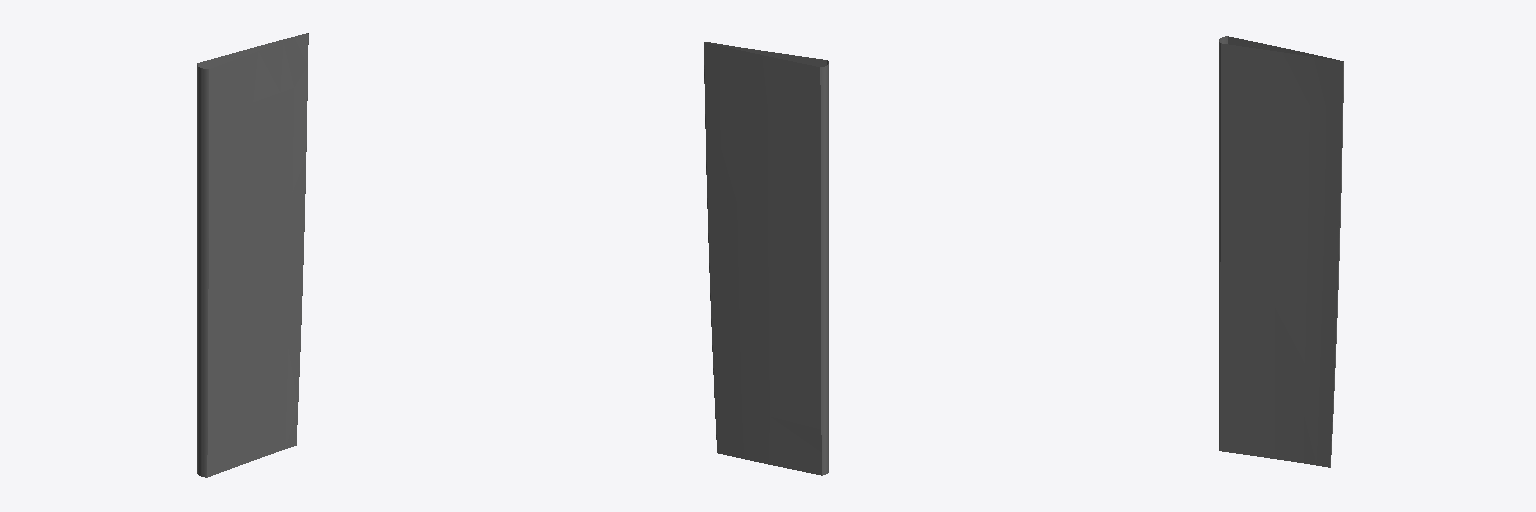
Rendered from Lflap.obj.
3 views of the same model, side by side, from view 1: azimuth 30°, elevation 25°; view 2: azimuth 150°, elevation 25°; view 3: azimuth 330°, elevation 25° (orthographic).
Visible parts, largest first — view 1: mesh0, mesh1, mesh2; view 2: mesh2, mesh1, mesh0; view 3: mesh0, mesh1.
Boxes of the visible parts, x1=… form: mesh0: x1=207, y1=34, x2=307, y2=477; mesh1: x1=197, y1=63, x2=208, y2=477; mesh2: x1=198, y1=33, x2=306, y2=68; mesh2: x1=704, y1=42, x2=821, y2=475; mesh1: x1=820, y1=60, x2=828, y2=475; mesh0: x1=705, y1=42, x2=826, y2=66; mesh0: x1=1220, y1=43, x2=1342, y2=467; mesh1: x1=1219, y1=36, x2=1227, y2=450.
Size of the model in its own units: 0.0598 by 0.2 by 0.011.